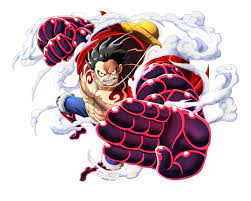Luffy: (87, 43, 128, 87)
